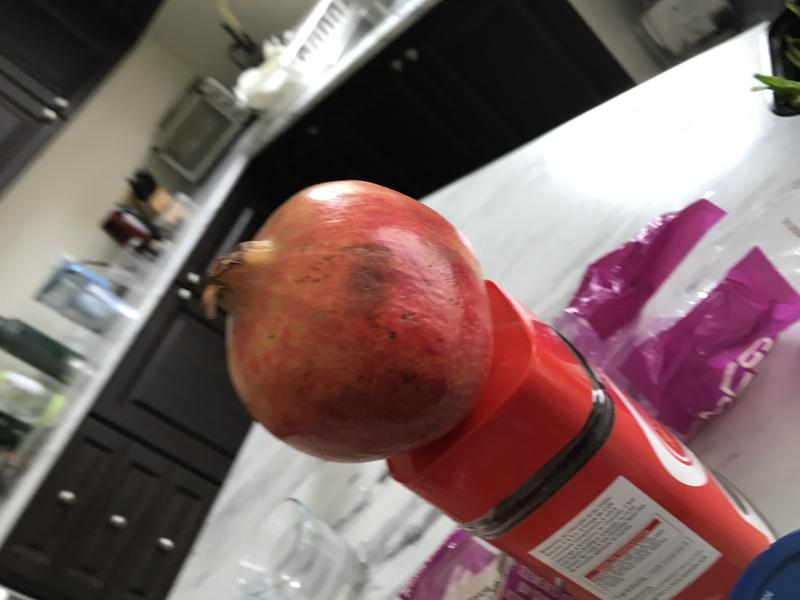pomegranate: (183, 158, 500, 470)
